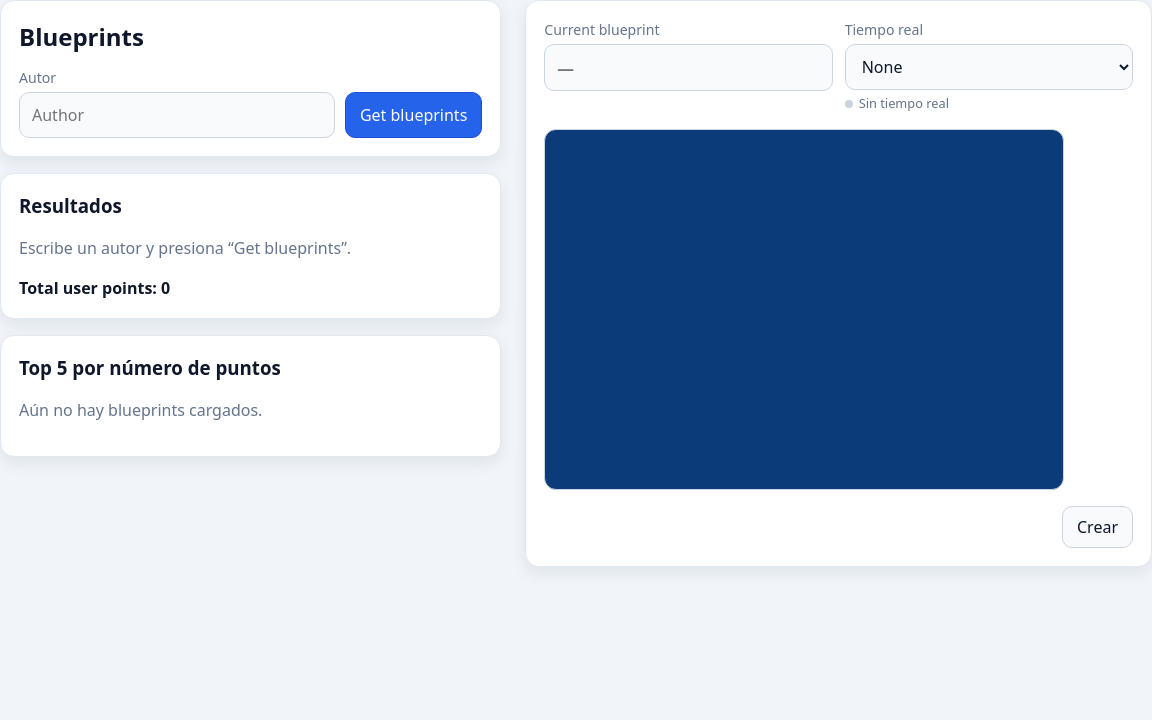
BlueprintsPage › despacha fetchByAuthor al hacer click en Get blueprints
The image size is (1152, 720).
Type "john" into the field with placeholder "Author" at (177, 115), box 19,92 -> 335,138
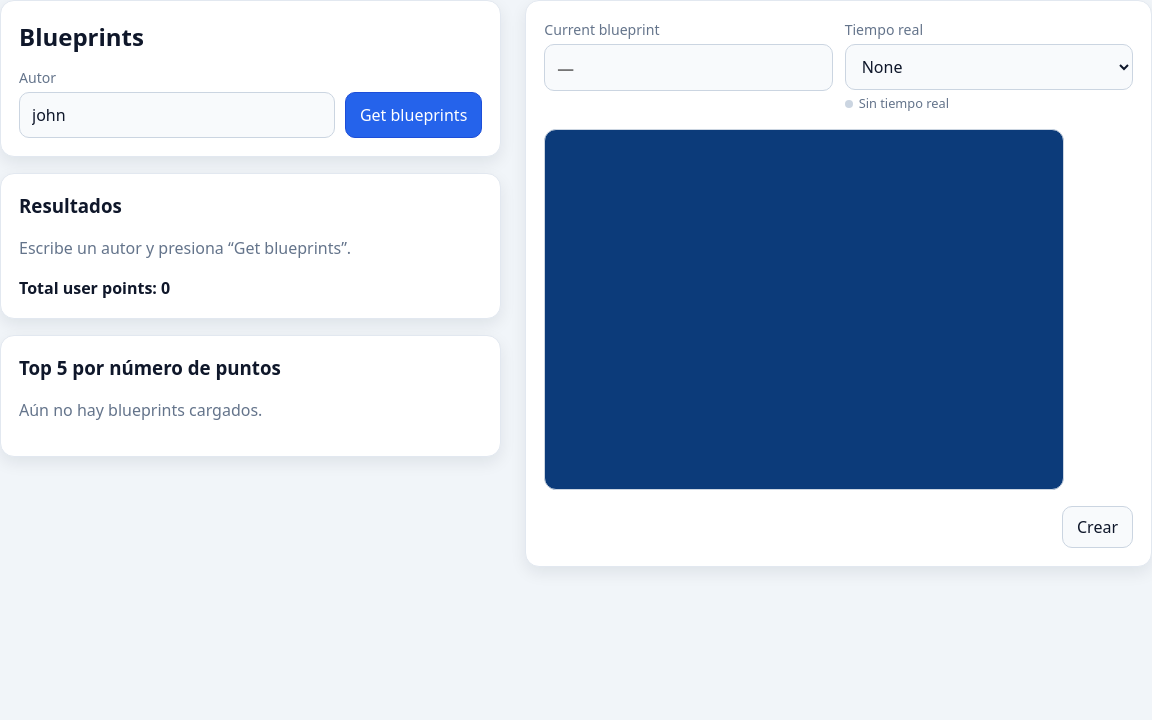
Click the button "Get blueprints" at (414, 115), box 345,92 -> 482,138
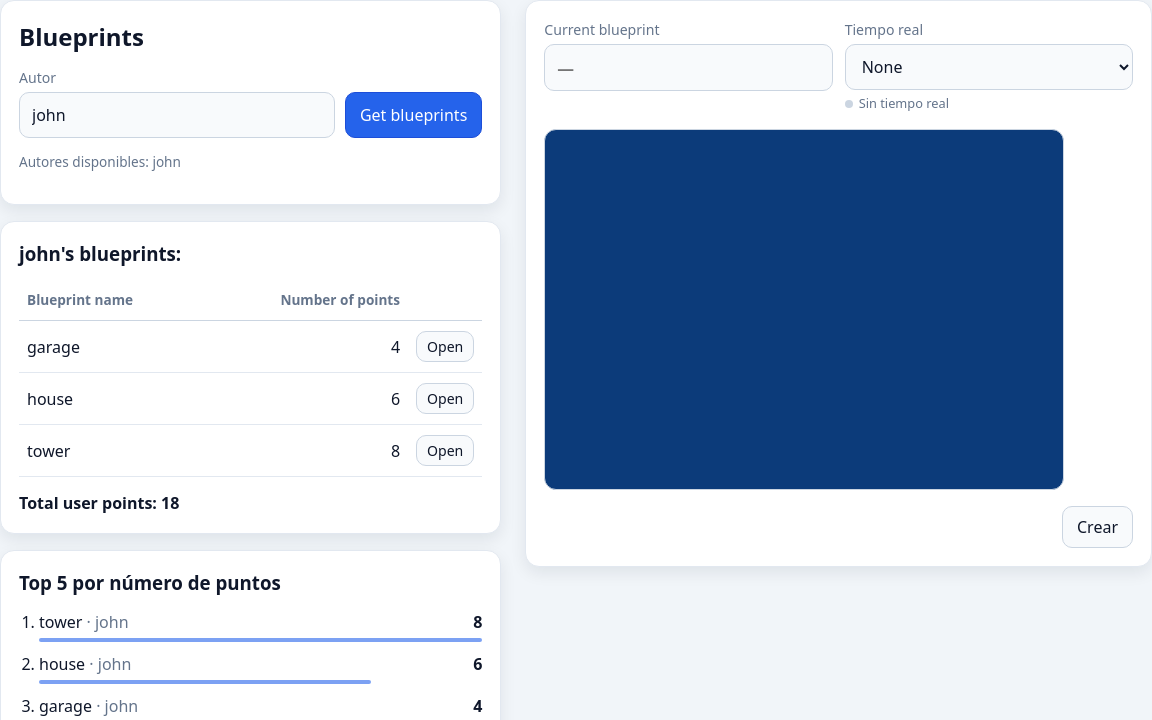
Now the table is shown, box 19,280 -> 482,478
